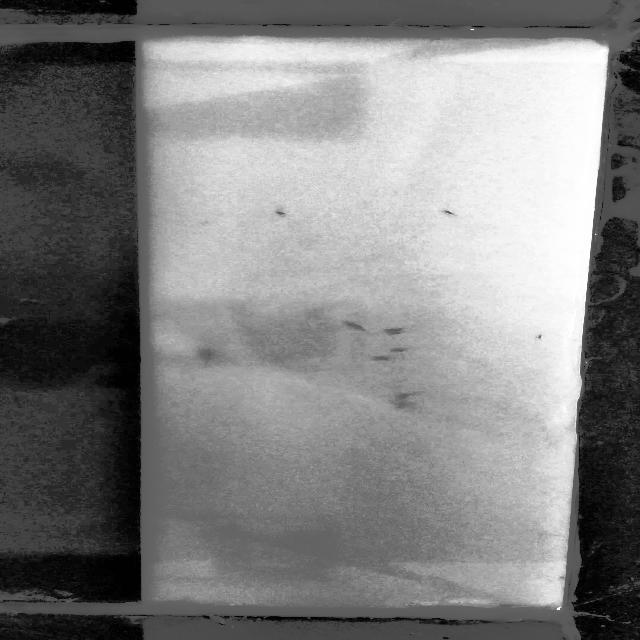shrimp: (191, 342, 227, 367), (262, 205, 295, 222), (337, 318, 372, 332), (361, 352, 394, 364), (387, 344, 413, 357), (382, 323, 405, 337), (434, 205, 458, 218), (390, 392, 420, 402), (529, 330, 548, 342)
